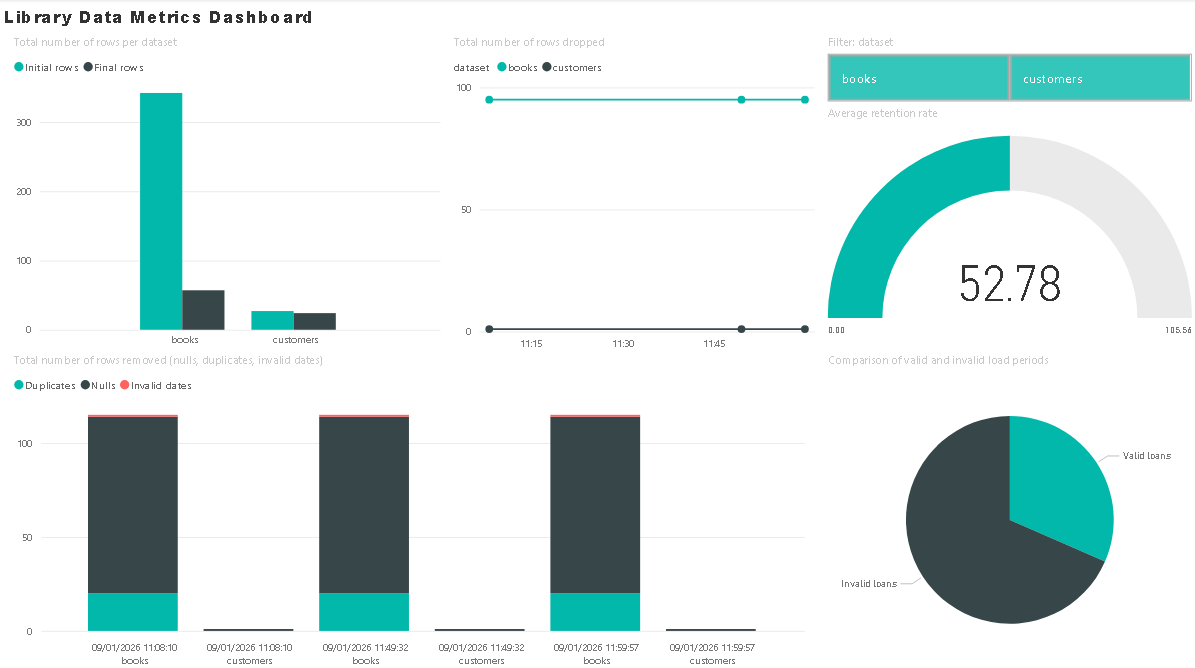

This screenshot's page, from the dashboard's own definition file:
{"tool":"powerbi","page":{"name":"Metrics Dashboard","canvas":[1280,720],"ordinal":0},"visuals":[{"type":"clusteredColumnChart","title":"Total number of rows per dataset","fields":{"Category":["cleaning_metrics.dataset"],"Y":["Sum(cleaning_metrics.initial_rows)","Sum(cleaning_metrics.final_rows)"]},"box":[10.4,38.1,466.2,341.5],"z":0},{"type":"lineChart","title":"Total number of rows dropped","fields":{"Y":["Sum(cleaning_metrics.total_dropped)"],"Category":["cleaning_metrics.timestamp"],"Series":["cleaning_metrics.dataset"]},"box":[481.2,38.1,399.2,345],"z":1000},{"type":"columnChart","title":"Total number of rows removed (nulls, duplicates, invalid dates)","fields":{"Category":["cleaning_metrics.timestamp","cleaning_metrics.dataset"],"Y":["Sum(cleaning_metrics.duplicates_dropped)","Sum(cleaning_metrics.null_rows_dropped)","Sum(cleaning_metrics.invalid_dates_removed)"]},"box":[10.4,378.5,855,341.5],"z":2000},{"type":"pieChart","title":"Comparison of valid and invalid load periods","fields":{"Y":["Sum(cleaning_metrics.valid_loans)","Sum(cleaning_metrics.invalid_loans)"]},"box":[880.4,378.5,399.2,341.5],"z":3000},{"type":"gauge","title":"Average retention rate","fields":{"Y":["Avg(cleaning_metrics.retention_rate)"]},"box":[880.4,114.2,399.2,264.2],"z":4000},{"type":"advancedSlicerVisual","title":"Filter: dataset","fields":{"Values":["cleaning_metrics.dataset"]},"box":[880.4,38.1,399.2,76.2],"z":5000},{"type":"textbox","box":[0,0,865.4,38.1],"z":6000}]}

Visuals, with their boxes in screenshot pixels (x1, y1, x2, y2), scaled from the page's 1280x720 canvas onto the 1195x668 screenshot:
"Total number of rows per dataset" clusteredColumnChart: 10,35,445,352
"Total number of rows dropped" lineChart: 449,35,822,355
"Total number of rows removed (nulls, duplicates, invalid dates)" columnChart: 10,351,808,667
"Comparison of valid and invalid load periods" pieChart: 822,351,1194,667
"Average retention rate" gauge: 822,106,1194,351
"Filter: dataset" advancedSlicerVisual: 822,35,1194,106
textbox: 0,0,808,35
